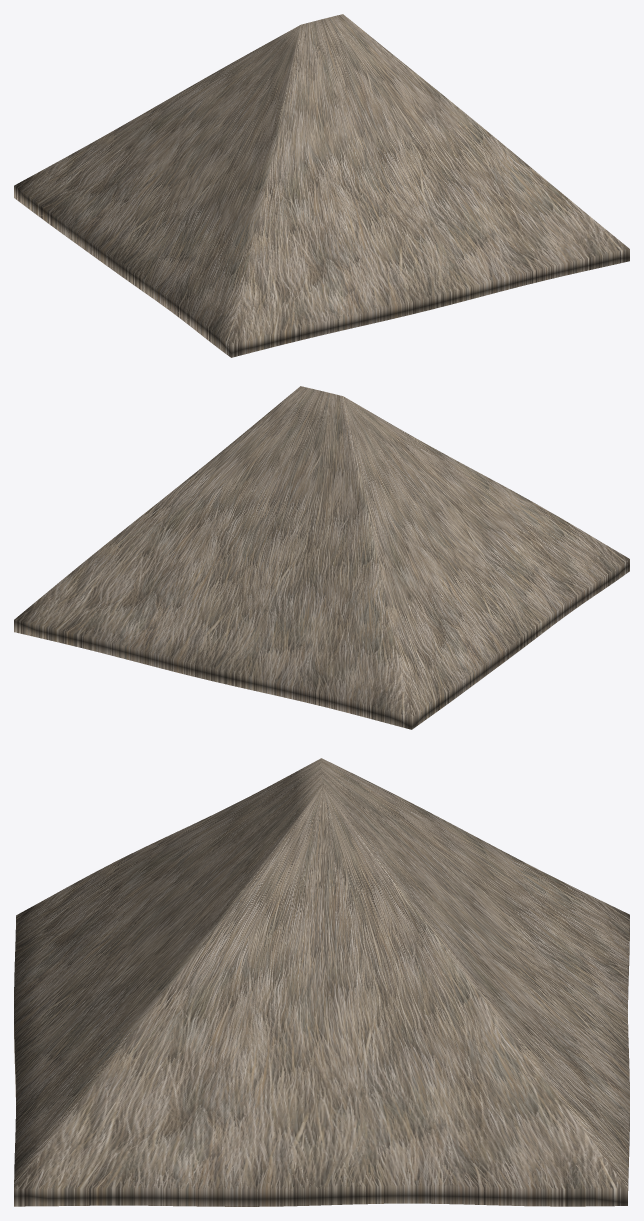
Rendered from BW_Merchant01_Thatch.fbx.
The picture shows the model from 3 angles, top to bottom: view 1: azimuth 30°, elevation 25°; view 2: azimuth 150°, elevation 25°; view 3: azimuth 270°, elevation 25°; orthographic projection. The views are drawn at different scales.
Visible parts, largest first — view 1: BW_Merchant01_Thatch; view 2: BW_Merchant01_Thatch; view 3: BW_Merchant01_Thatch.
Part boxes in pixels (bbox=[...]): BW_Merchant01_Thatch: bbox=[14, 14, 629, 357]; BW_Merchant01_Thatch: bbox=[14, 386, 629, 729]; BW_Merchant01_Thatch: bbox=[14, 758, 629, 1206].
Bounding box in the file's own units: 7.52 × 3.8 × 7.12.
